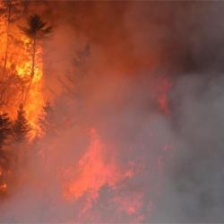fire: (1, 7, 61, 147)
smoke: (97, 5, 223, 224)
